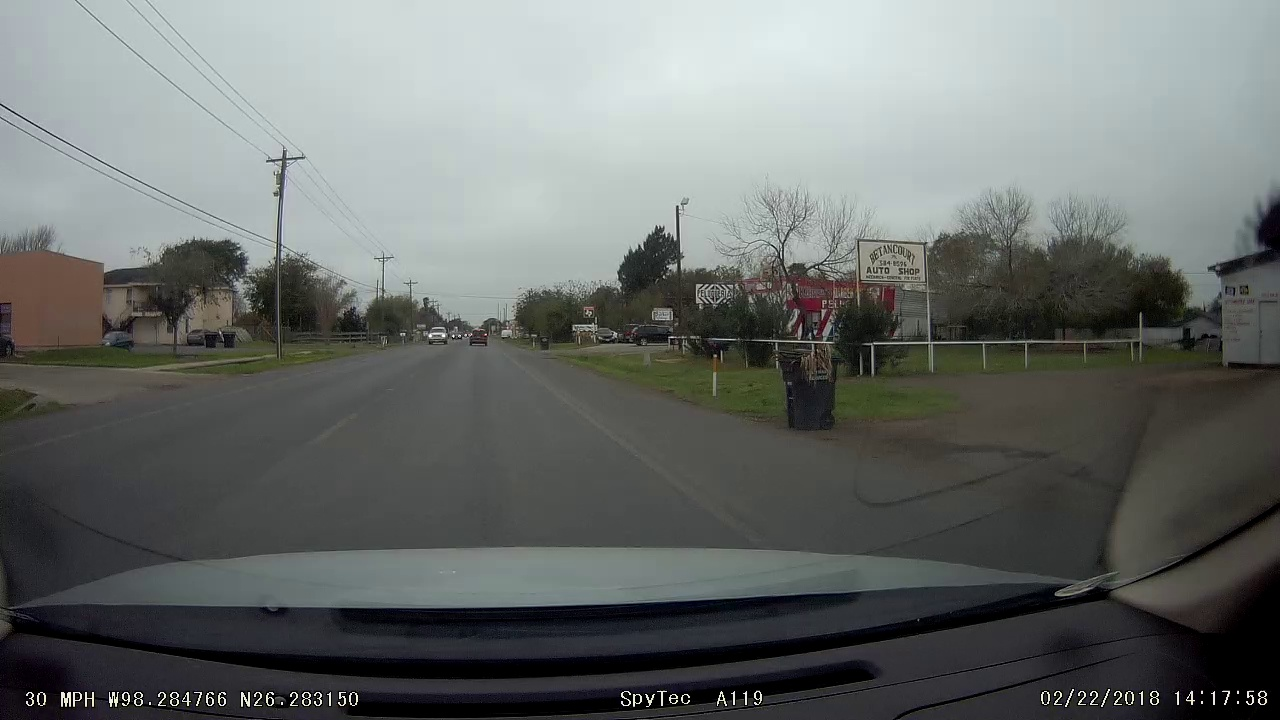blurredLine: (301, 402, 363, 459)
